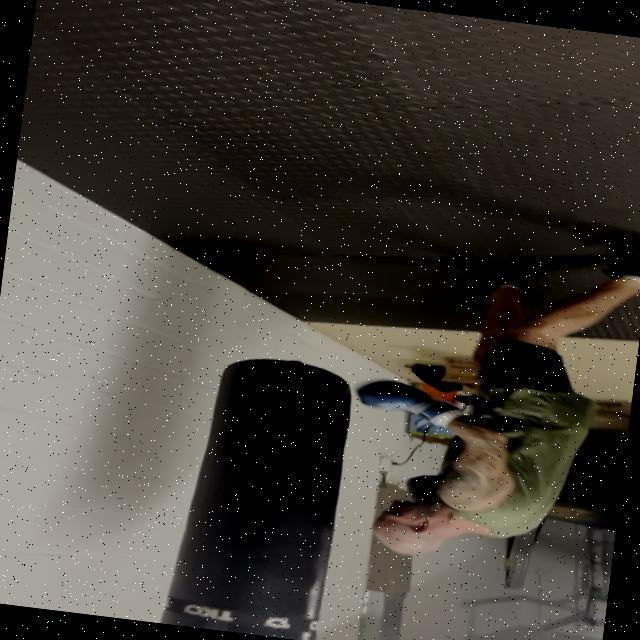bag: (157, 342, 364, 640)
uppercut: (327, 372, 581, 574)
